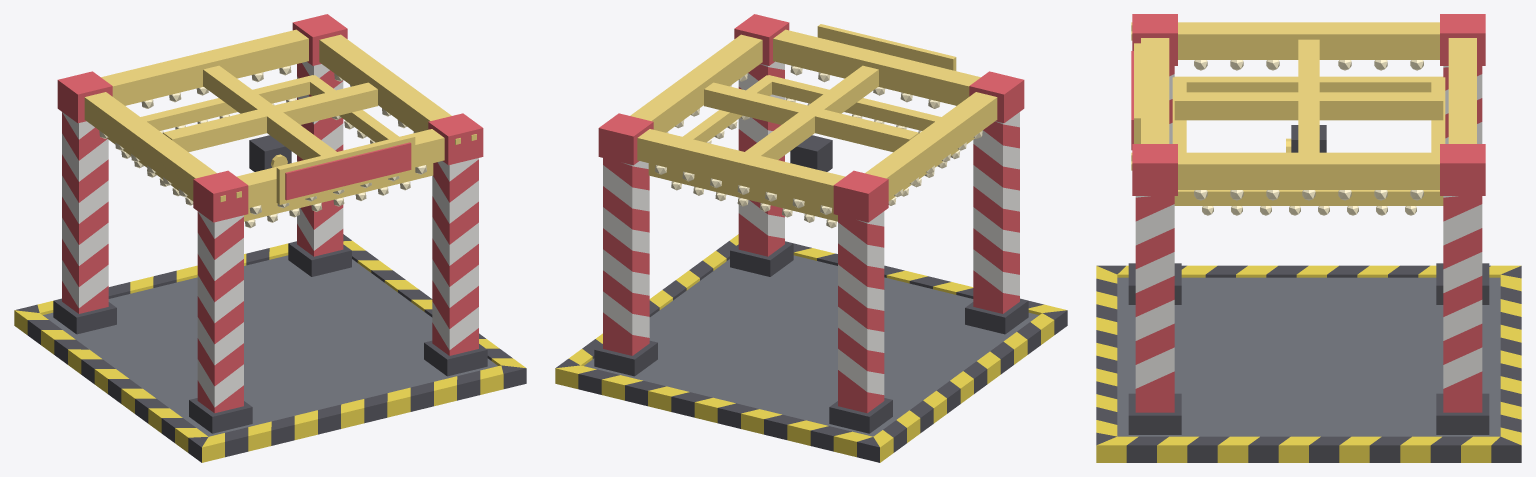
Rendered from LiftRig.glb.
The picture shows the model from 3 angles, left to right: view 1: azimuth 30°, elevation 25°; view 2: azimuth 150°, elevation 25°; view 3: azimuth 270°, elevation 25°; orthographic projection. The views are drawn at different scales.
Parts seen in each view (by area): view 1: Pad, Gold, Red, Black, White, Hazard, Bulbs; view 2: Gold, Pad, Red, Black, White, Hazard, Bulbs; view 3: Pad, Gold, Red, Black, Hazard, White, Bulbs.
Part boxes in pixels (box(x1,y1,x2,y2)): Pad: box(43, 255, 497, 436); Gold: box(84, 29, 476, 221); Red: box(57, 14, 483, 413); Black: box(15, 135, 526, 462); White: box(62, 61, 478, 407); Hazard: box(14, 240, 526, 462); Bulbs: box(99, 65, 426, 228); Gold: box(630, 24, 997, 221); Pad: box(584, 255, 1038, 436); Red: box(598, 14, 1024, 413); Black: box(555, 135, 1067, 462); White: box(603, 61, 1019, 394); Hazard: box(555, 234, 1066, 462); Bulbs: box(655, 65, 982, 228); Pad: box(1117, 277, 1500, 436); Gold: box(1131, 22, 1476, 205); Red: box(1131, 14, 1485, 412); Black: box(1096, 125, 1521, 462); Hazard: box(1096, 265, 1521, 462); White: box(1135, 66, 1482, 388); Bulbs: box(1194, 60, 1423, 215).
Bounding box in the file's own units: 0.9979 × 0.7567 × 0.9979.
